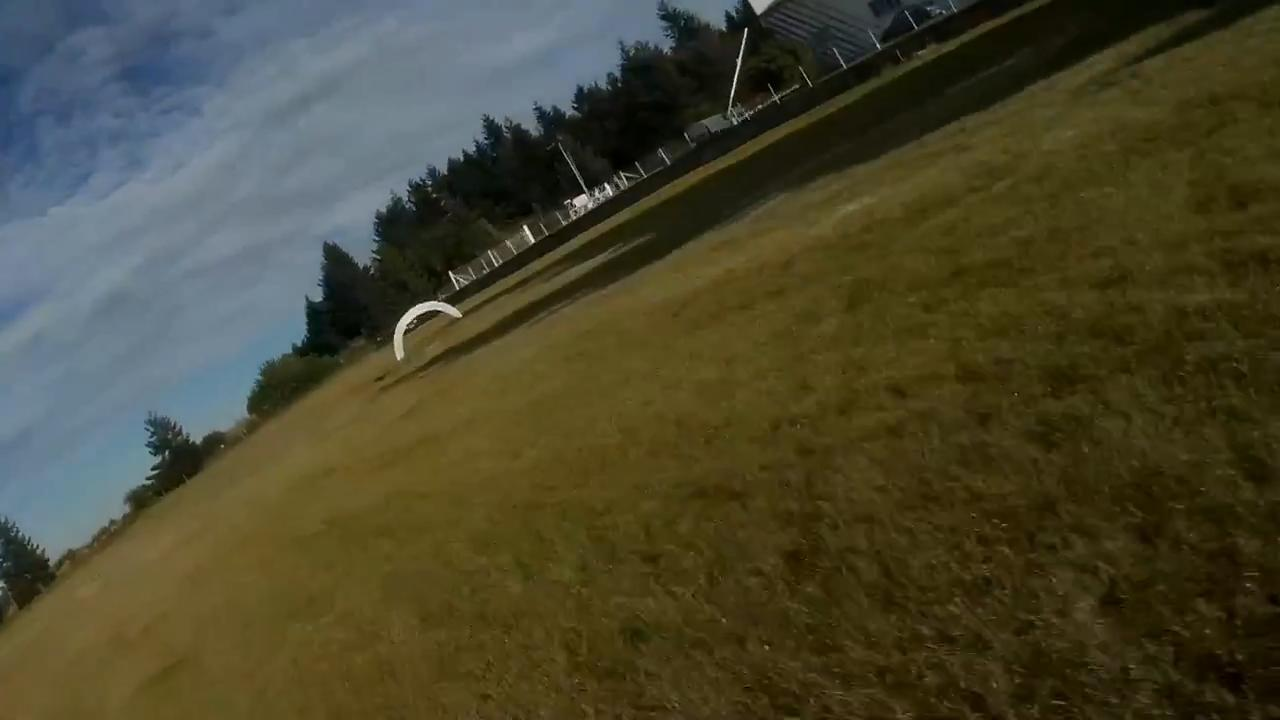gate: (392, 301, 461, 360)
